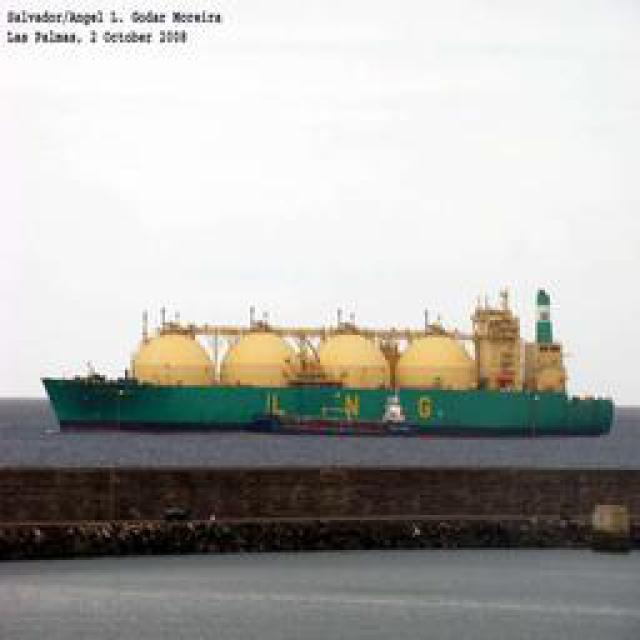Ship: (42, 370, 615, 435)
